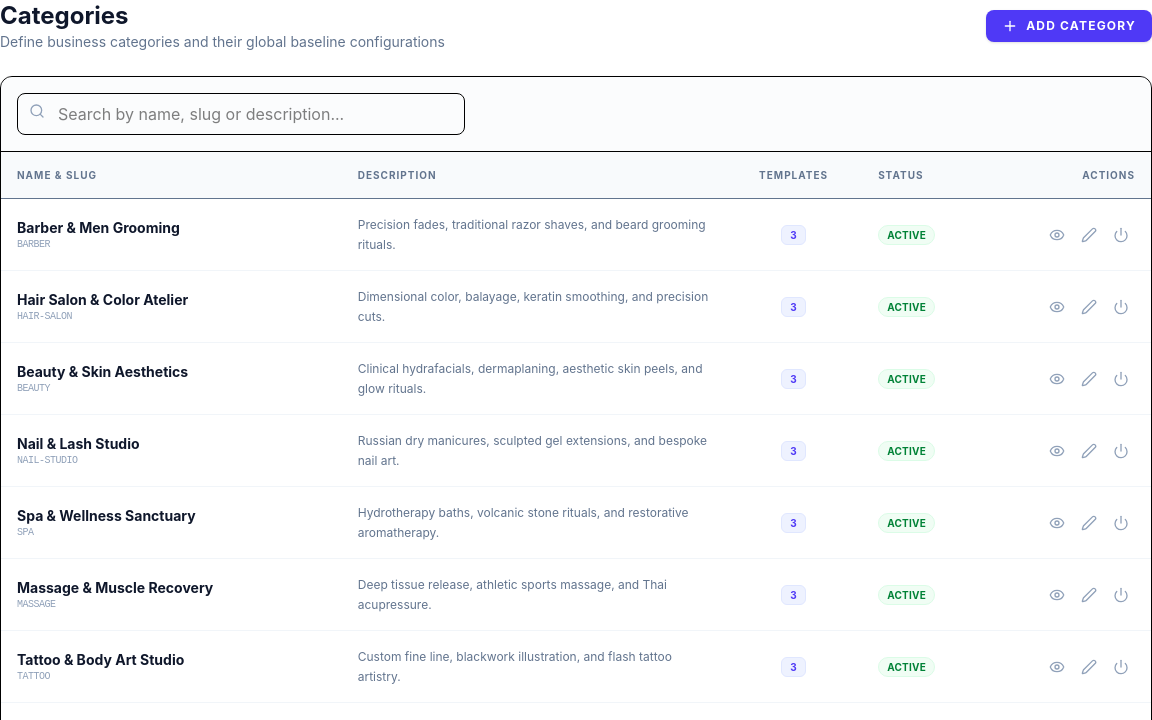
CategoryManagementPage CRUD & Validation › shows validation errors when creating a category with existing slug
Click the button "Add Category" at (1069, 26), box [986,10,1151,42]
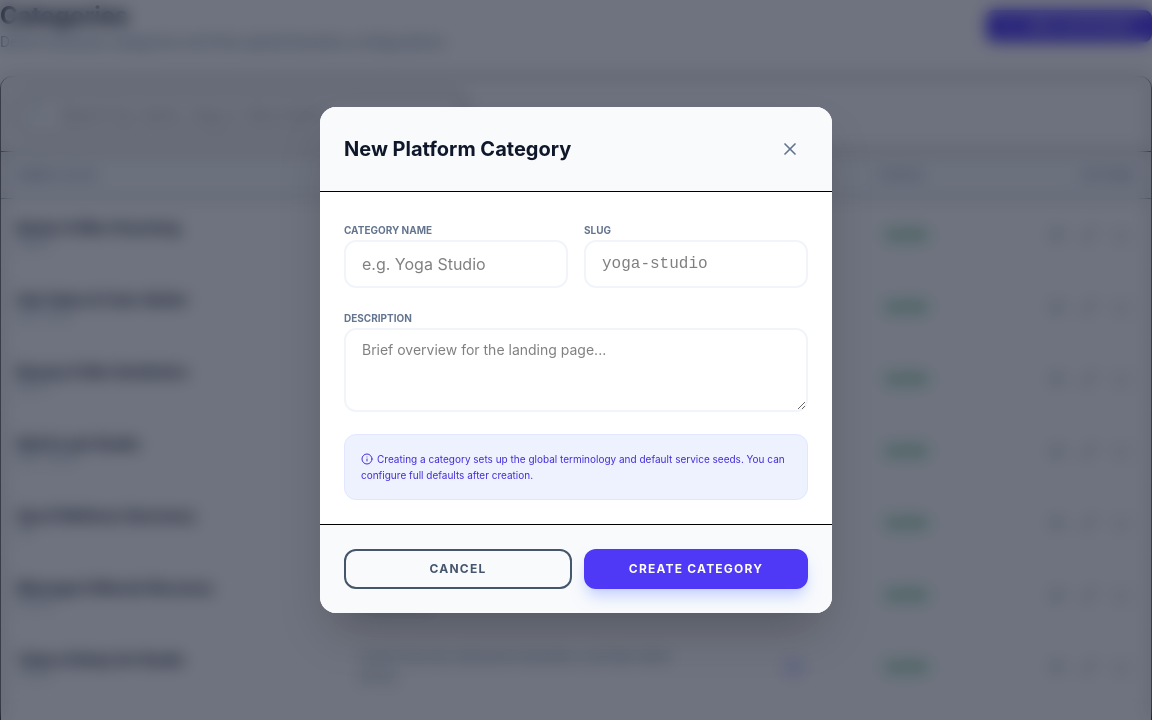
Note: Use an existing slug like 'barber'
Type "New Barber" into the field with placeholder "e.g. Yoga Studio" at (456, 264), box [344,240,568,288]
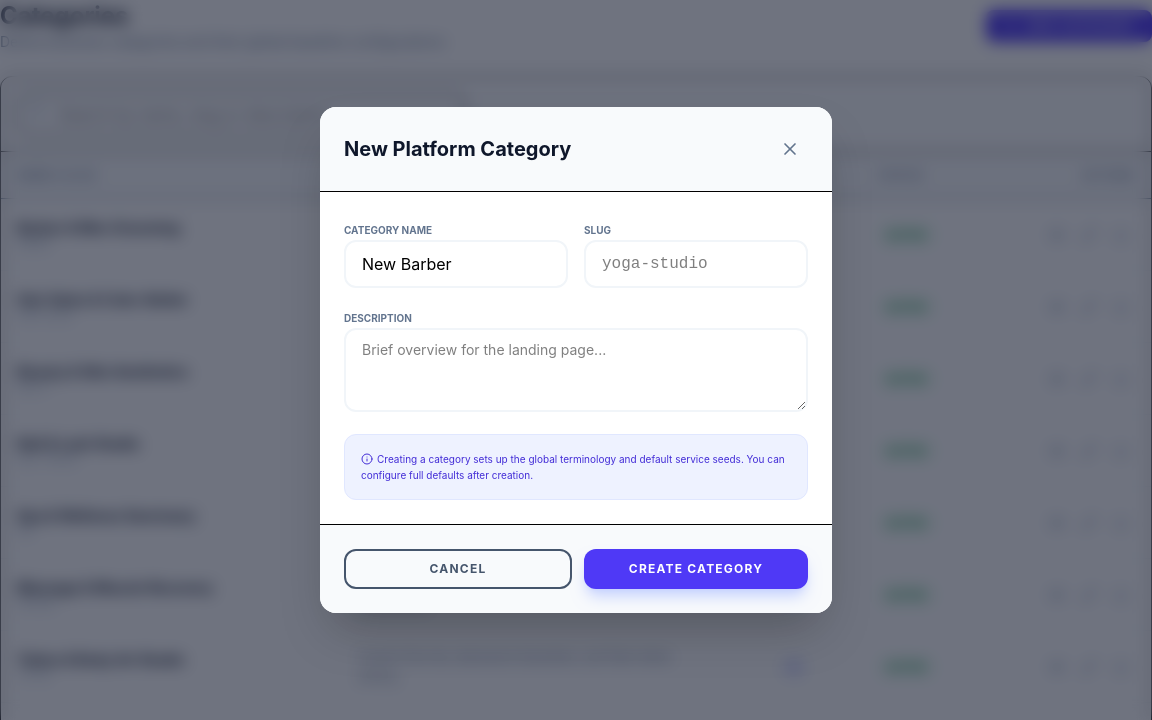
Type "barber" into the field with placeholder "yoga-studio" at (696, 264), box [584,240,808,288]
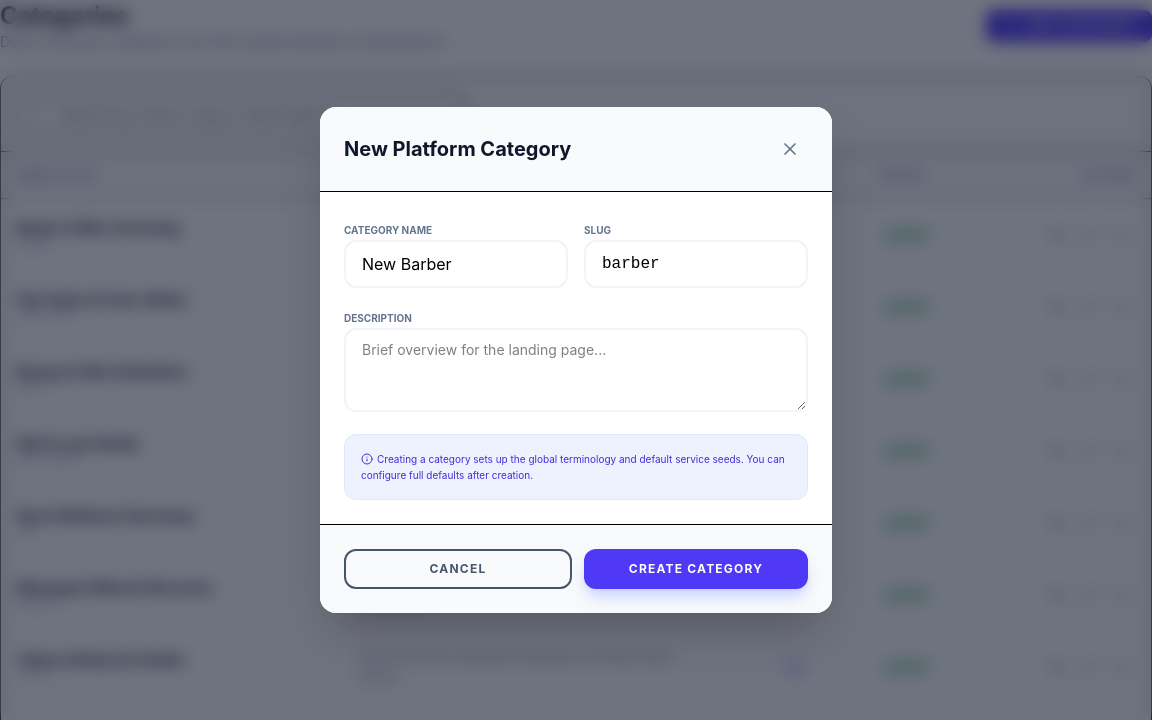
Submit the form named "Category Form", box [320,107,832,613]
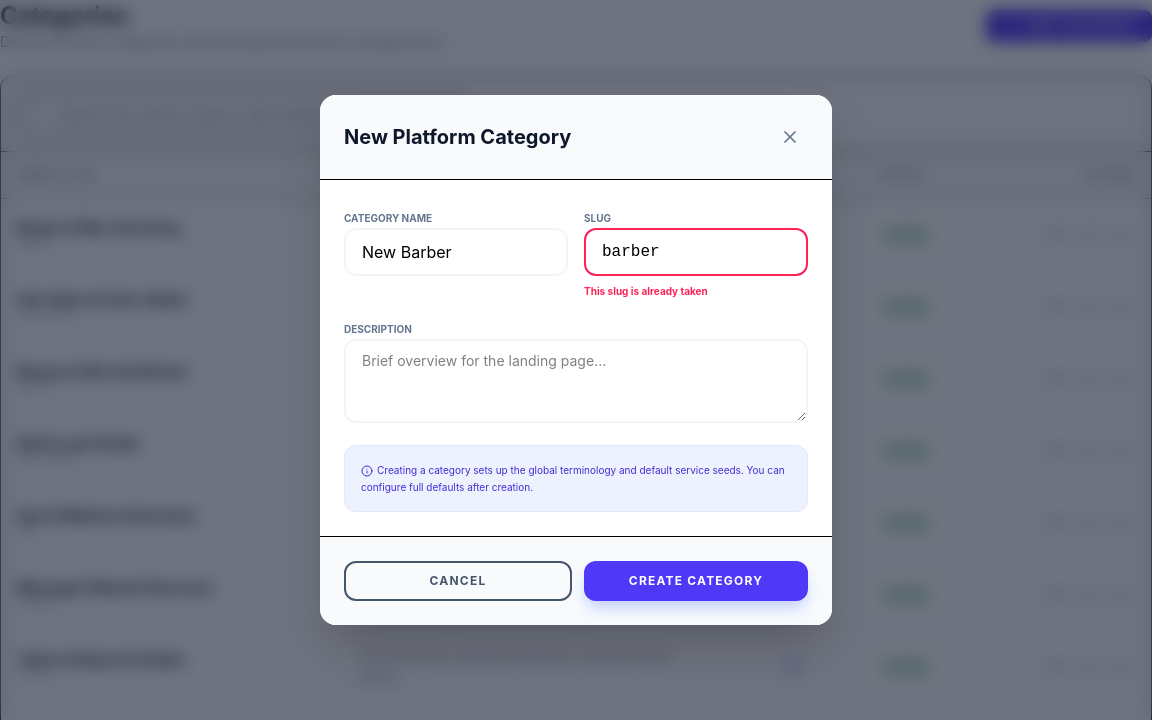
Now the text "This slug is already taken" is shown, box [584,285,708,297]
